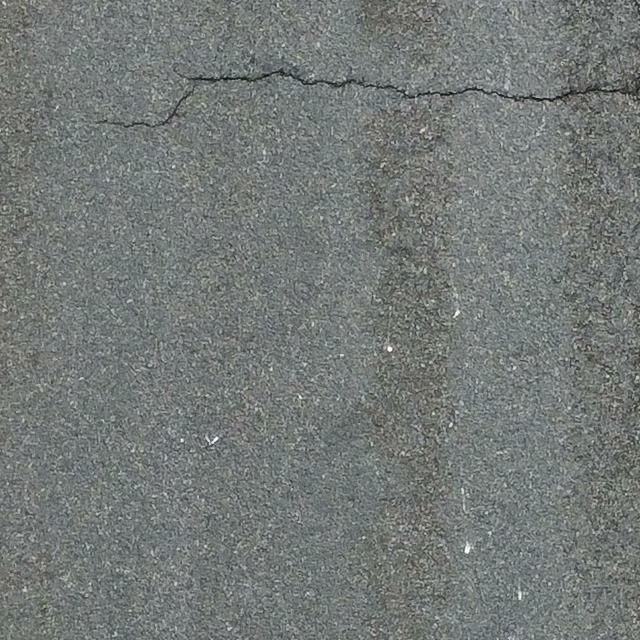TransverseCrack: (94, 69, 640, 127)
